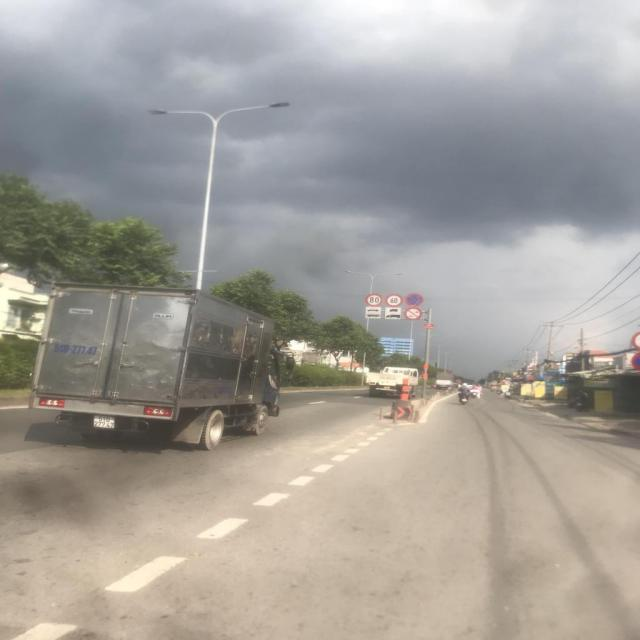cam_dung_xe_va_do_xe: (405, 294, 423, 307)
cam_xe_2_banh_va_xe_3_banh_co_dong_co: (404, 308, 422, 320)
khac: (385, 308, 401, 314), (385, 313, 401, 319), (366, 307, 381, 313), (365, 313, 381, 318)
toc_do_toi_da_60: (385, 294, 403, 307)
toc_do_toi_da_80: (366, 293, 383, 307)
